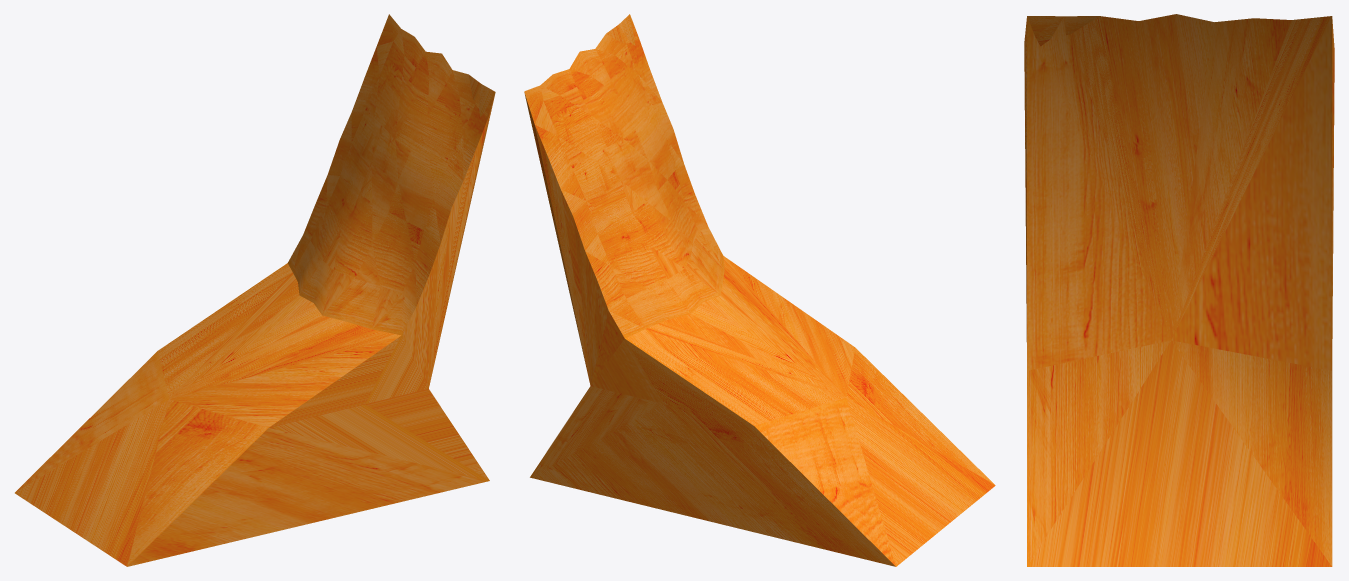
The model's file is launchpad.fbx.
The picture shows the model from 3 angles, left to right: view 1: azimuth 30°, elevation 25°; view 2: azimuth 150°, elevation 25°; view 3: azimuth 270°, elevation 25°; orthographic projection. The views are drawn at different scales.
Parts seen in each view (by area): view 1: Box001; view 2: Box001; view 3: Box001.
Part boxes in pixels (<box>): Box001: <box>15,14,495,566</box>; Box001: <box>524,14,995,566</box>; Box001: <box>1024,14,1334,566</box>.
Size of the model in its own units: 4.06 by 4.02 by 2.03.
1 material, 1 textured.
